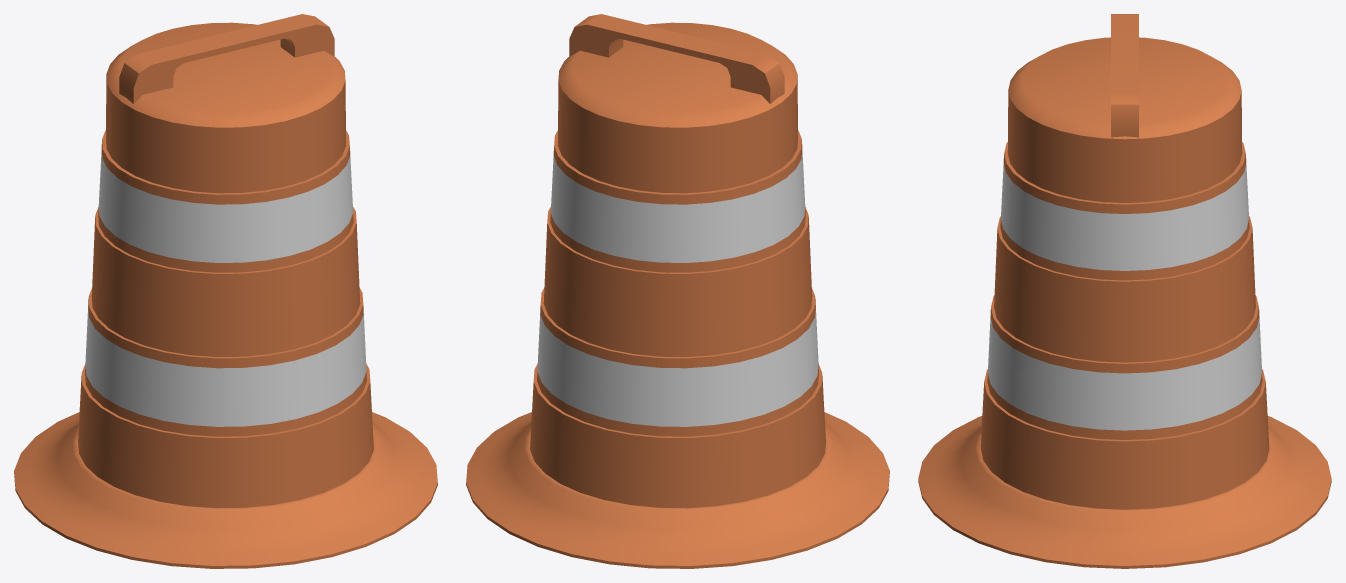
The model's file is Barrel.fbx.
The picture shows the model from 3 angles, left to right: view 1: azimuth 30°, elevation 25°; view 2: azimuth 150°, elevation 25°; view 3: azimuth 270°, elevation 25°; orthographic projection. The views are drawn at different scales.
Visible parts, largest first — view 1: Con_Barrel; view 2: Con_Barrel; view 3: Con_Barrel.
Boxes of the visible parts, x1,y1,x2,y2 form: Con_Barrel: [14, 14, 437, 568]; Con_Barrel: [466, 14, 889, 568]; Con_Barrel: [918, 14, 1331, 568].
Size of the model in its own units: 91.35 by 104 by 91.35.
